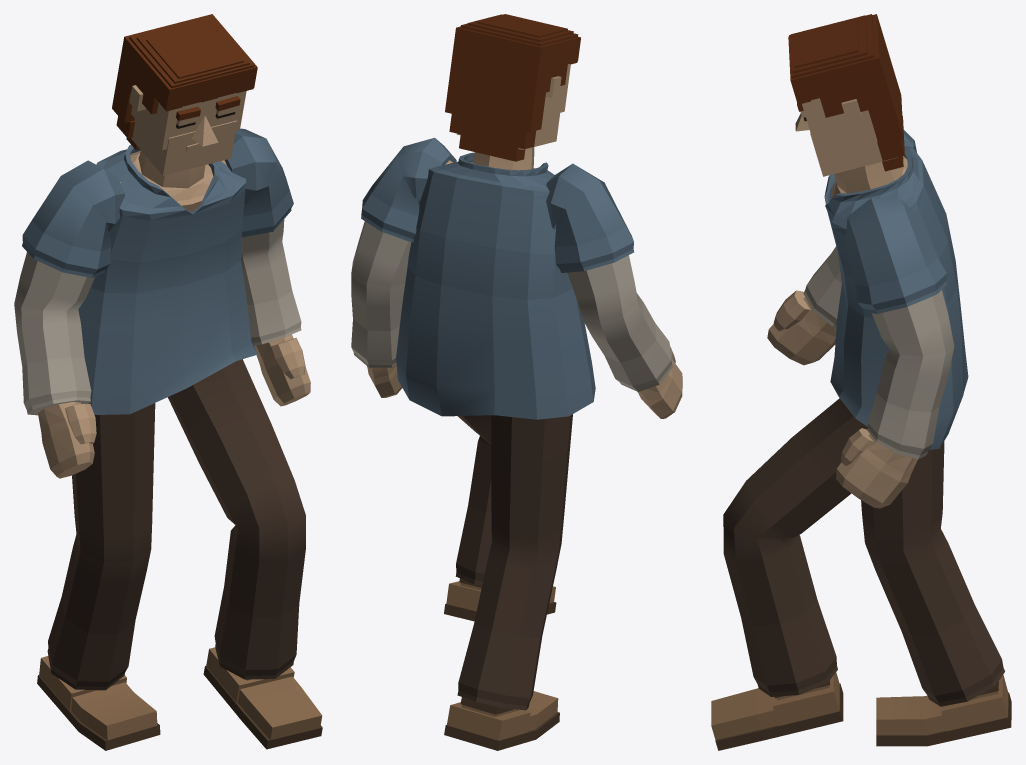
File: suburban-resident-a9db9c__walk7.glb
3 views of the same model, side by side, from view 1: azimuth 30°, elevation 25°; view 2: azimuth 150°, elevation 25°; view 3: azimuth 270°, elevation 25° (orthographic). The views are drawn at different scales.
Visible parts, largest first — view 1: suburban-resident-a9db9c__walk7; view 2: suburban-resident-a9db9c__walk7; view 3: suburban-resident-a9db9c__walk7.
Part boxes in pixels (x1,y1,x2,y2): suburban-resident-a9db9c__walk7: [14, 14, 322, 750]; suburban-resident-a9db9c__walk7: [351, 14, 682, 750]; suburban-resident-a9db9c__walk7: [711, 14, 1011, 750].
Size of the model in its own units: 0.7667 by 1.72 by 0.6517.
